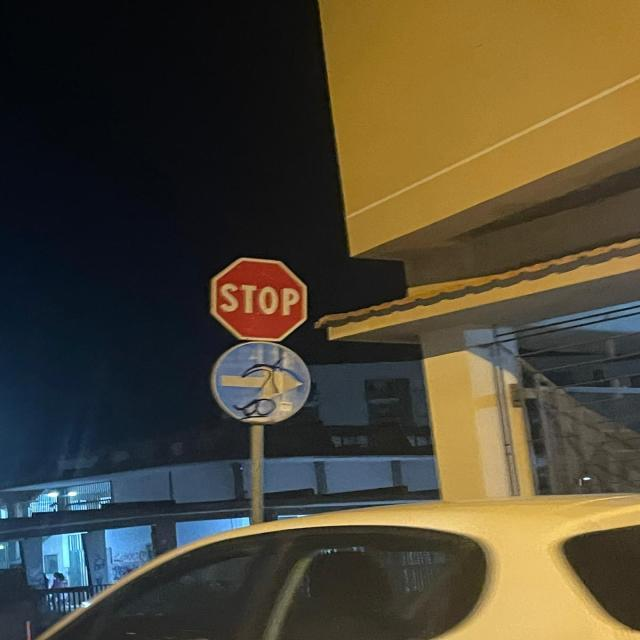prio_stop: (206, 254, 316, 343)
